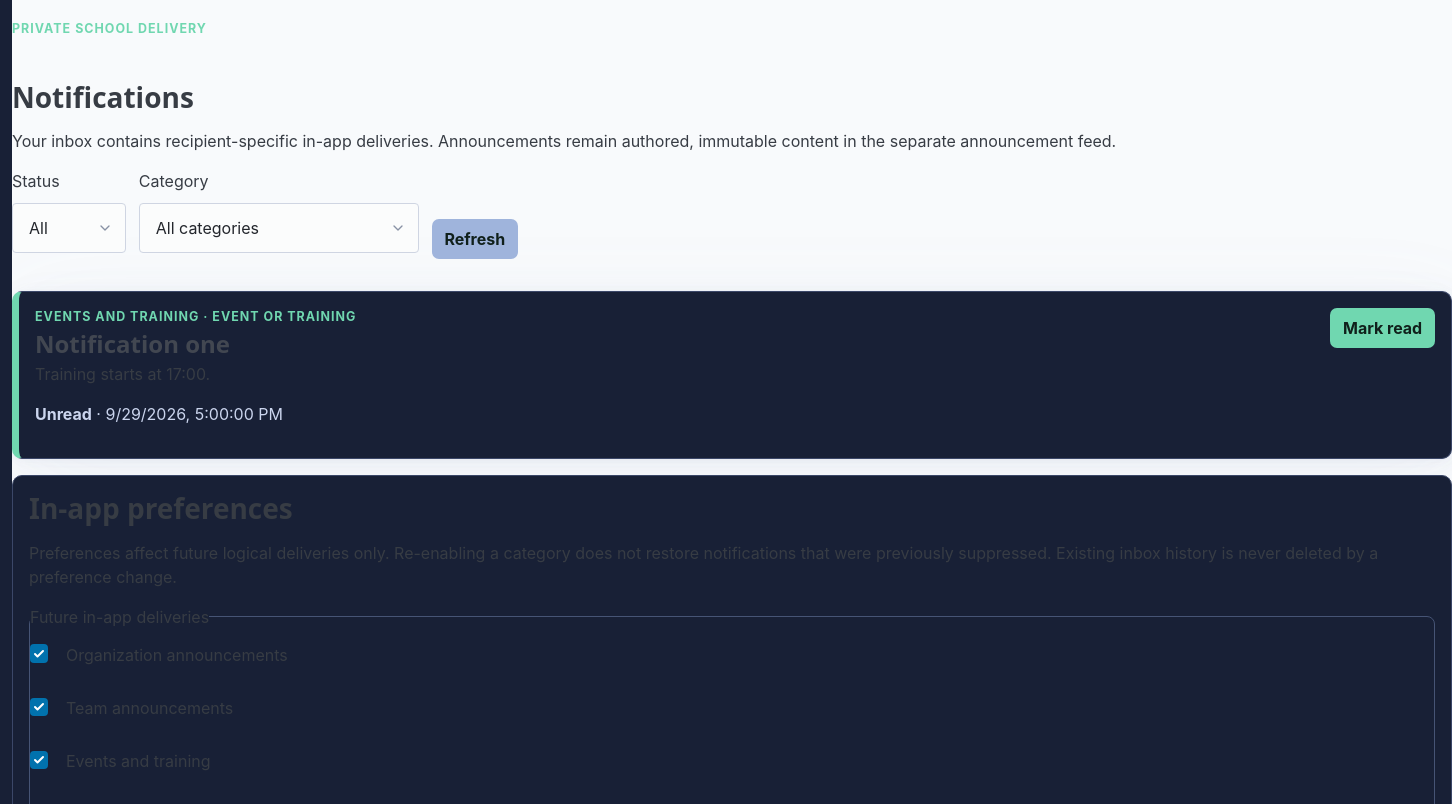
Test: shared organization notification inbox › updates an in-app preference with explicit future-only semantics
Click the checkbox with test id "preference-event" at [39, 760], box [30, 751, 48, 769]
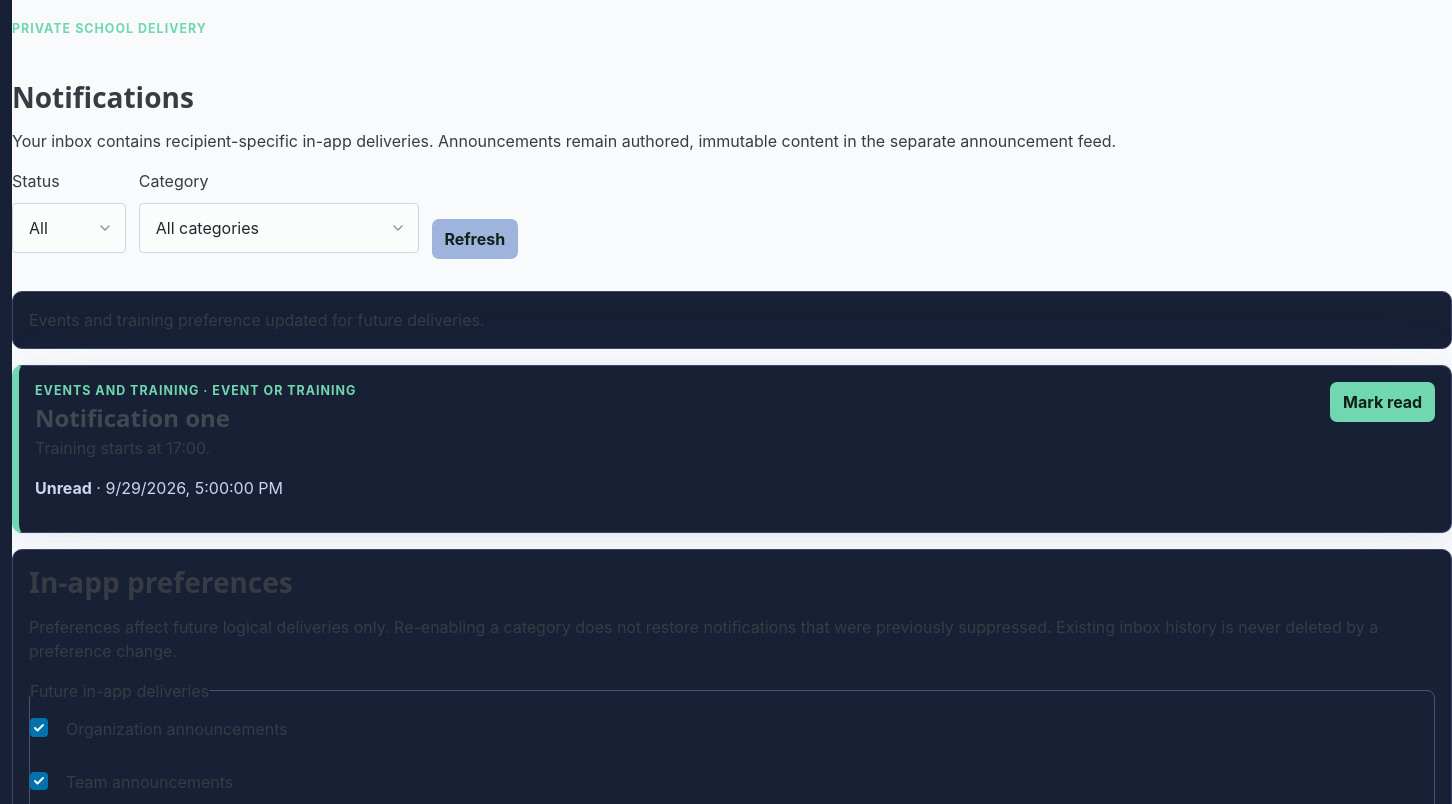
Expected: the text "preference updated for future deliveries" is shown, [29, 310, 484, 330]
